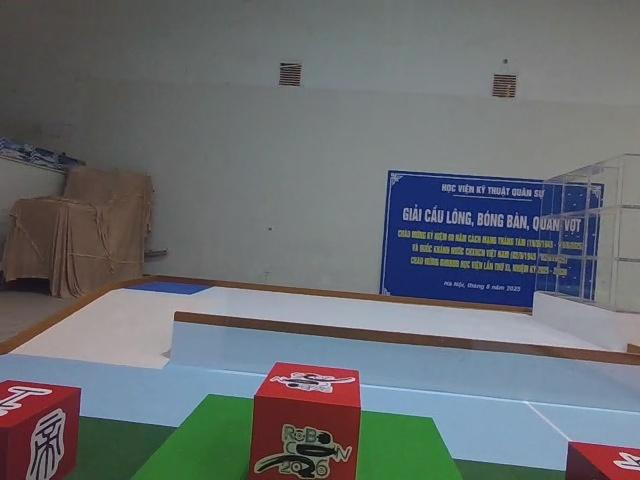R1: (246, 358, 364, 480)
R2 Fake: (0, 376, 83, 480)
